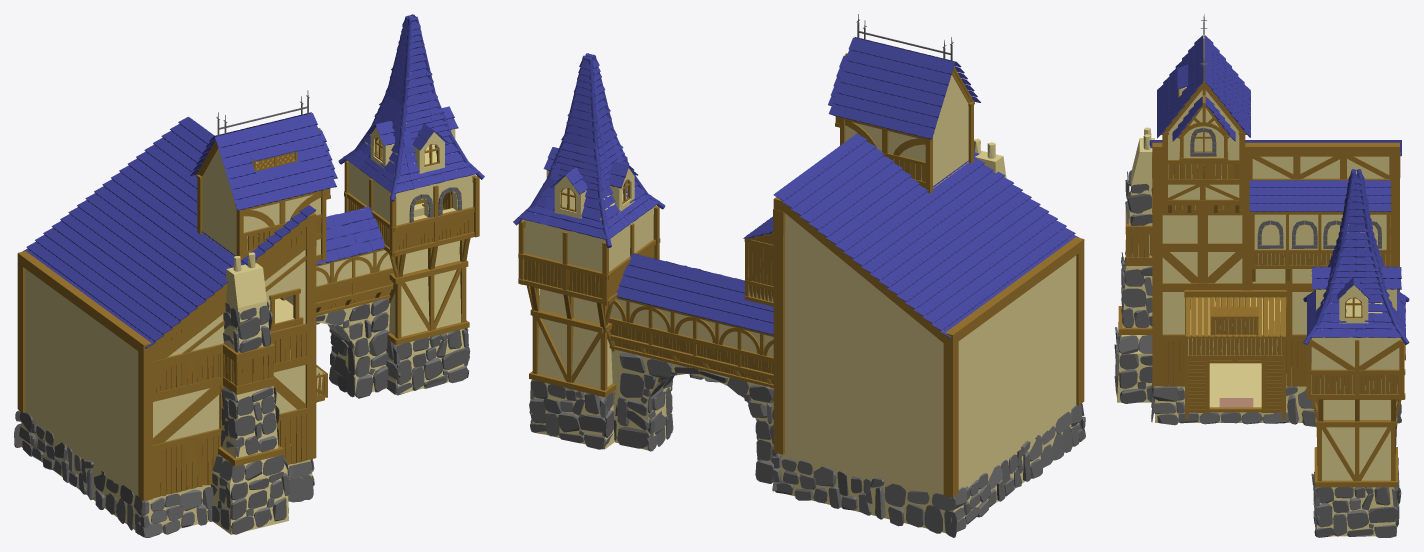
File: tavern.glb
3 views of the same model, side by side, from view 1: azimuth 30°, elevation 25°; view 2: azimuth 150°, elevation 25°; view 3: azimuth 270°, elevation 25° (orthographic). The views are drawn at different scales.
Parts seen in each view (by area): view 1: roof-2, building, wood, stones, boards; view 2: building, roof-2, wood, stones, boards; view 3: wood, building, roof-2, stones, boards.
Boxes of the visible parts, bbox=[...] form: roof-2: bbox=[22, 14, 484, 348]; building: bbox=[21, 72, 474, 534]; wood: bbox=[17, 128, 479, 501]; stones: bbox=[14, 90, 470, 537]; boards: bbox=[153, 193, 473, 498]; building: bbox=[523, 75, 1079, 532]; roof-2: bbox=[513, 37, 1079, 338]; wood: bbox=[518, 53, 1084, 497]; stones: bbox=[529, 14, 1085, 537]; boards: bbox=[524, 157, 925, 384]; wood: bbox=[1118, 38, 1405, 487]; building: bbox=[1117, 87, 1401, 536]; roof-2: bbox=[1149, 35, 1409, 344]; stones: bbox=[1114, 14, 1401, 537]; boards: bbox=[1126, 164, 1399, 412].
Size of the model in its own units: 17.79 by 15.51 by 10.94.
